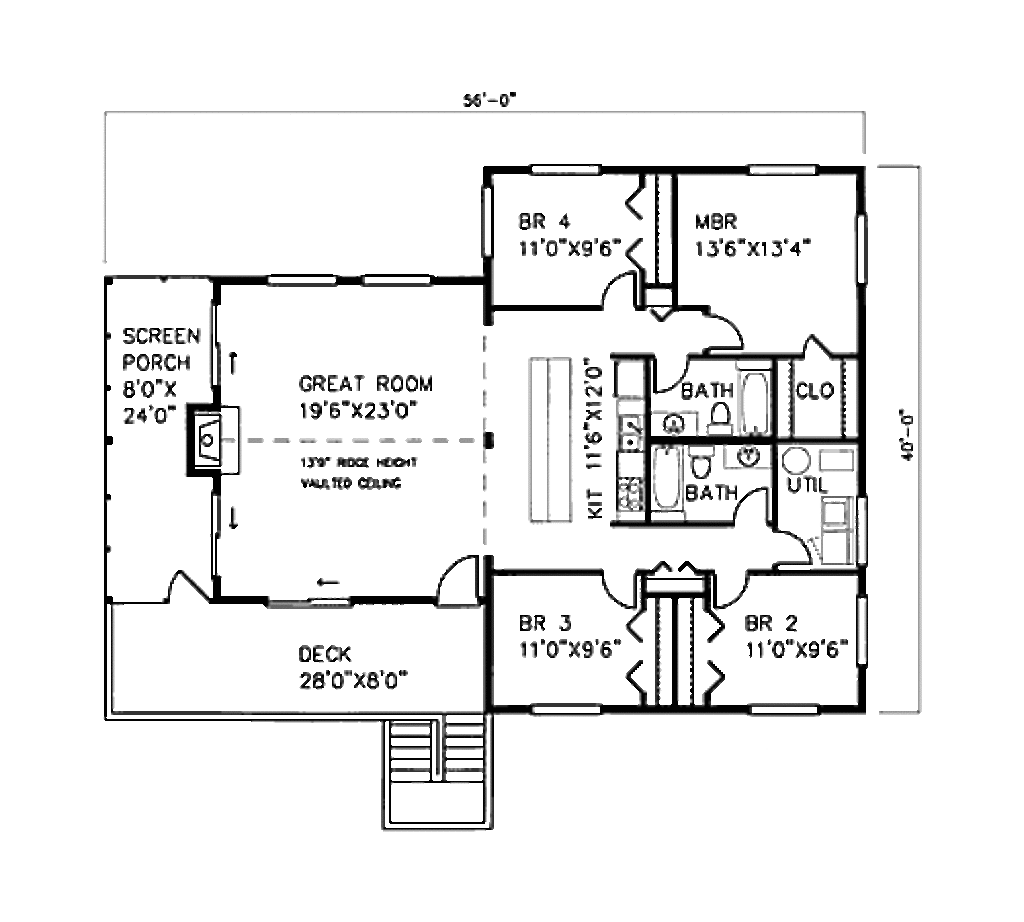door: (433, 551, 484, 612), (769, 530, 817, 575), (698, 309, 744, 355), (707, 567, 753, 613), (598, 568, 640, 612), (726, 487, 769, 528), (650, 352, 689, 396), (161, 570, 210, 603), (601, 268, 638, 310)
large_sink: (700, 398, 736, 439), (683, 445, 720, 482)
small_sink: (720, 443, 773, 473), (652, 412, 696, 438)
stairs: (384, 714, 494, 833)
tub: (651, 440, 680, 513), (741, 366, 772, 434)
windows: (743, 699, 828, 724), (526, 697, 606, 721), (850, 206, 873, 287), (262, 271, 339, 294), (524, 160, 607, 180), (478, 180, 498, 259), (853, 592, 873, 671), (744, 161, 823, 180), (357, 270, 434, 289)
